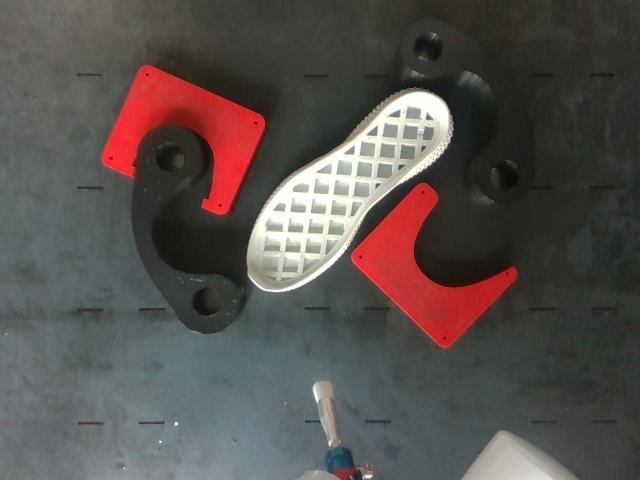shoes: (248, 92, 449, 293)
